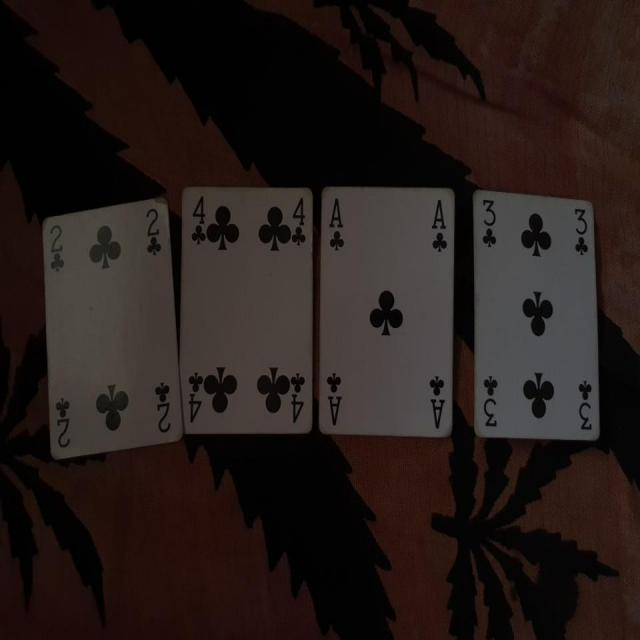2 Trefoils: (40, 194, 184, 461)
3 Trefoils: (472, 188, 602, 441)
4 Trefoils: (180, 182, 315, 436)
A Trefoils: (317, 185, 457, 438)
